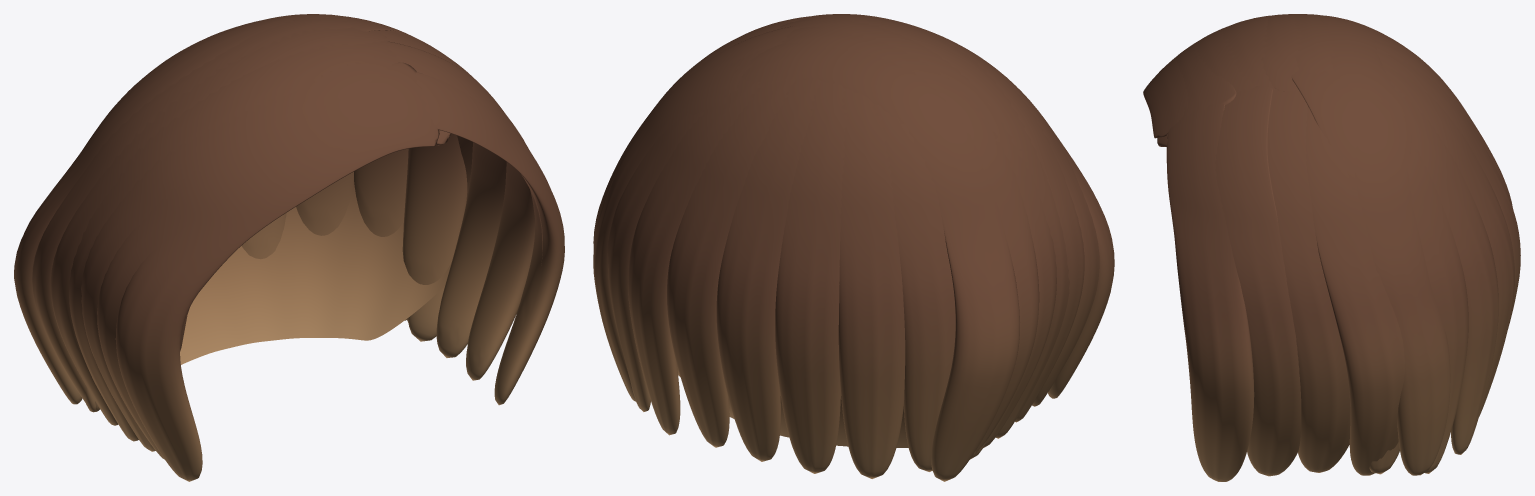
Rendered from Feminine-bob-bucket261-hair-ombre.glb.
3 views of the same model, side by side, from view 1: azimuth 30°, elevation 25°; view 2: azimuth 150°, elevation 25°; view 3: azimuth 270°, elevation 25° (orthographic). The views are drawn at different scales.
Visible parts, largest first — view 1: 226 hair / Hair / sculpted 0.004, 226 hair / Hair / sculpted 1.005, 226 hair / Hair / sculpted 2.004, 226 hair / Hair / sculpted 1; view 2: 226 hair / Hair / sculpted 0.004, 226 hair / Hair / sculpted 2.004, 226 hair / Hair / sculpted 1.005, 226 hair / Hair / sculpted 1; view 3: 226 hair / Hair / sculpted 1.005, 226 hair / Hair / sculpted 2.004, 226 hair / Hair / sculpted 0.004.
Part boxes in pixels (x1,y1,x2,y2): 226 hair / Hair / sculpted 0.004: (14,14,506,481); 226 hair / Hair / sculpted 1.005: (50,16,564,459); 226 hair / Hair / sculpted 2.004: (32,16,535,451); 226 hair / Hair / sculpted 1: (180,174,542,364); 226 hair / Hair / sculpted 0.004: (628,14,1114,481); 226 hair / Hair / sculpted 2.004: (593,14,1084,471); 226 hair / Hair / sculpted 1.005: (593,14,1099,478); 226 hair / Hair / sculpted 1: (677,366,908,447); 226 hair / Hair / sculpted 1.005: (1166,14,1514,481); 226 hair / Hair / sculpted 2.004: (1193,14,1520,476); 226 hair / Hair / sculpted 0.004: (1143,15,1512,472).
Bounding box in the file's own units: 1.01 × 0.8097 × 0.7503.
